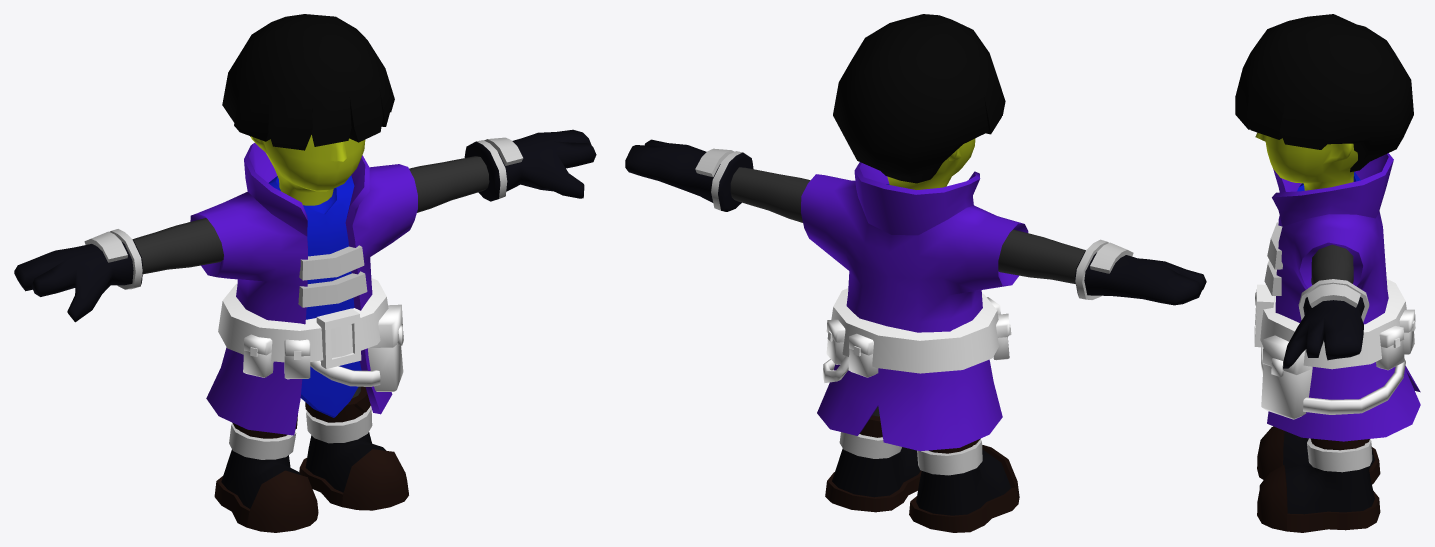
Rendered from Character.fbx.
3 views of the same model, side by side, from view 1: azimuth 30°, elevation 25°; view 2: azimuth 150°, elevation 25°; view 3: azimuth 270°, elevation 25° (orthographic).
Visible parts, largest first — view 1: Face4 (×10), Belt1; view 2: Face4 (×9), Belt1; view 3: Face4 (×9), Belt1.
Part boxes in pixels (bbox=[...]): Face4 (×10): bbox=[14, 14, 596, 532]; Belt1: bbox=[218, 278, 403, 391]; Face4 (×9): bbox=[625, 14, 1206, 532]; Belt1: bbox=[822, 288, 1011, 382]; Face4 (×9): bbox=[1235, 14, 1420, 532]; Belt1: bbox=[1254, 279, 1415, 419].
Size of the model in its own units: 221 by 176 by 63.
